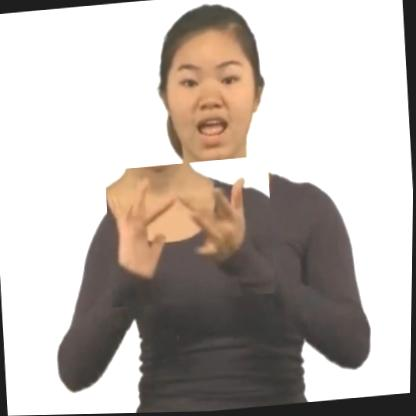Internet: (104, 157, 278, 309)
